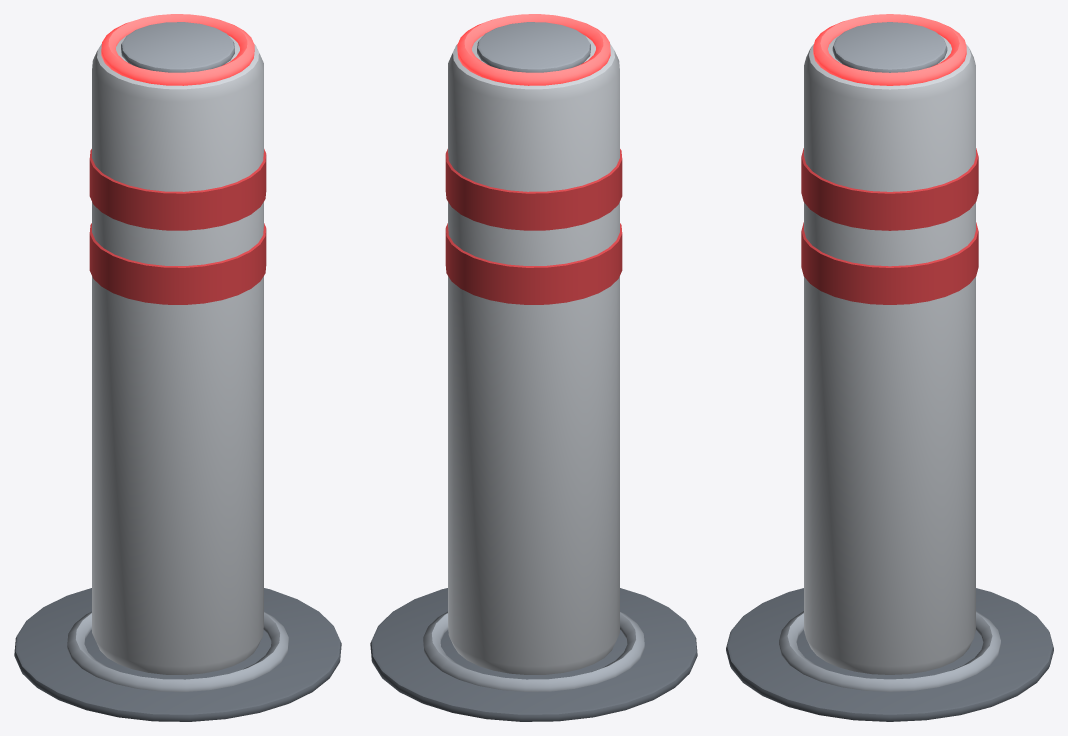
Rendered from balizador_retratil.glb.
3 renders of one model, left to right at view 1: azimuth 30°, elevation 25°; view 2: azimuth 150°, elevation 25°; view 3: azimuth 270°, elevation 25°, orthographic.
Visible parts, largest first — view 1: coluna, balizador_retratil; view 2: coluna, balizador_retratil; view 3: coluna, balizador_retratil.
Boxes of the visible parts, x1,y1,x2,y2 form: coluna: (89,14,266,674); balizador_retratil: (14,588,341,721); coluna: (445,14,622,674); balizador_retratil: (370,588,697,721); coluna: (801,14,978,674); balizador_retratil: (726,588,1053,721).
Bounding box in the file's own units: 0.4 × 0.822 × 0.4.
Materials: 2 (1 with a texture image).
